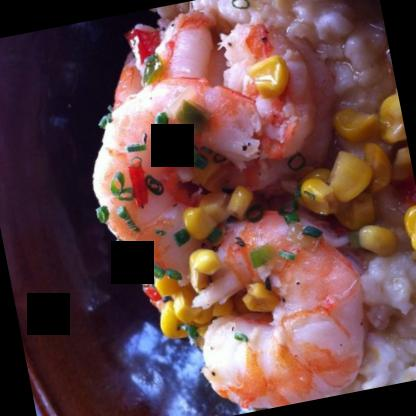shrimp: (78, 57, 300, 292), (168, 200, 380, 415)
